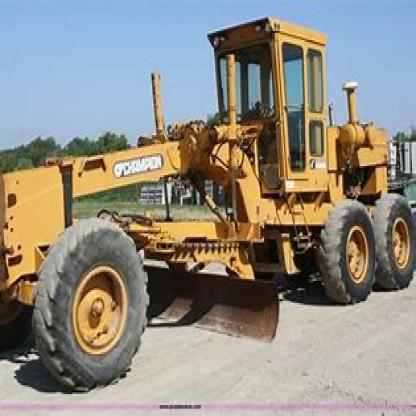bull_dozer/loader/grader: (3, 13, 414, 385)
